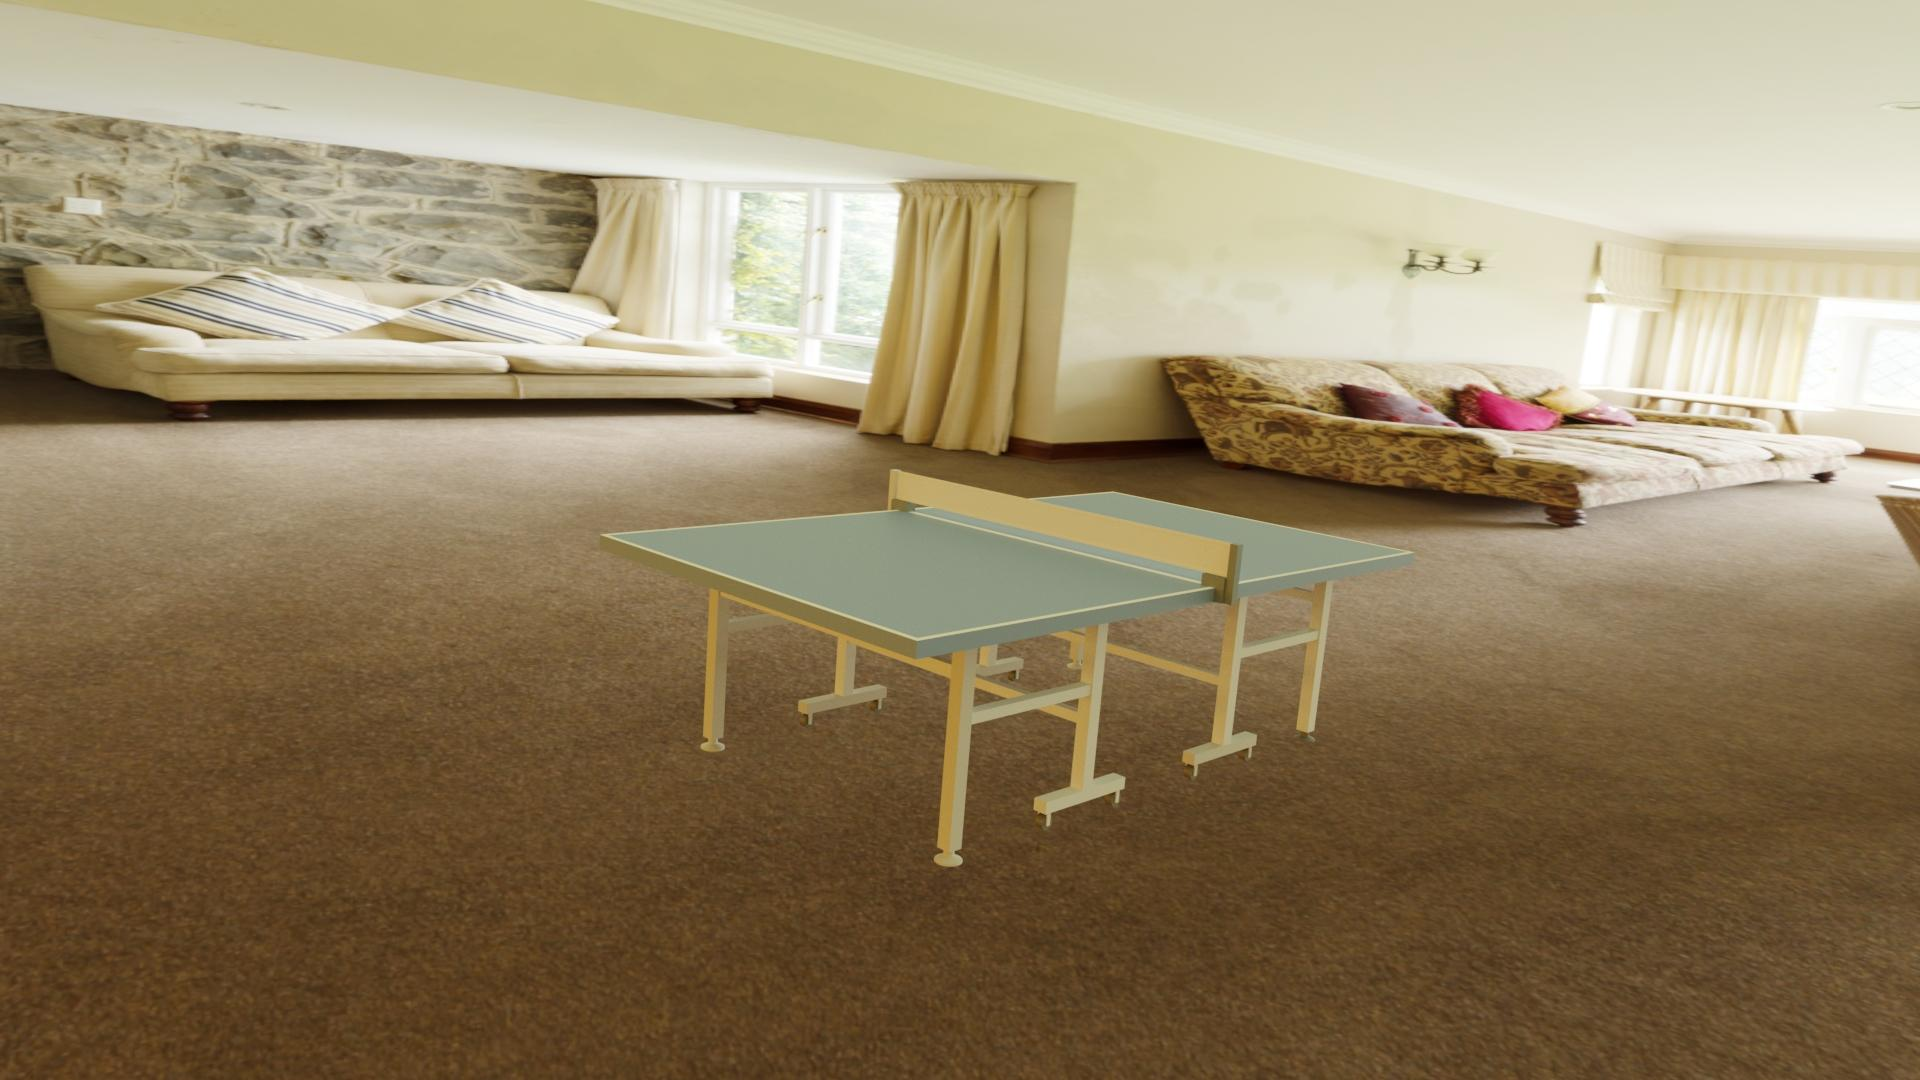table: (608, 493, 1408, 638)
